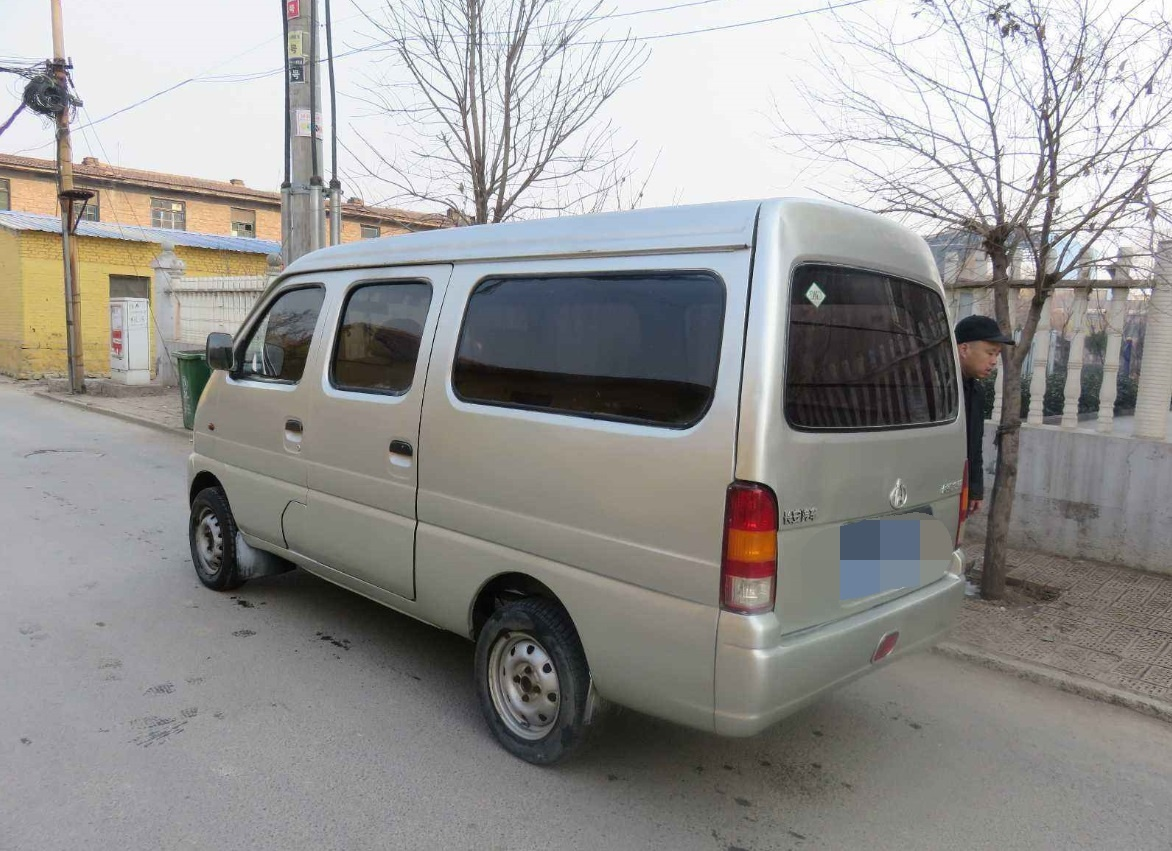minibus: (169, 201, 969, 784)
